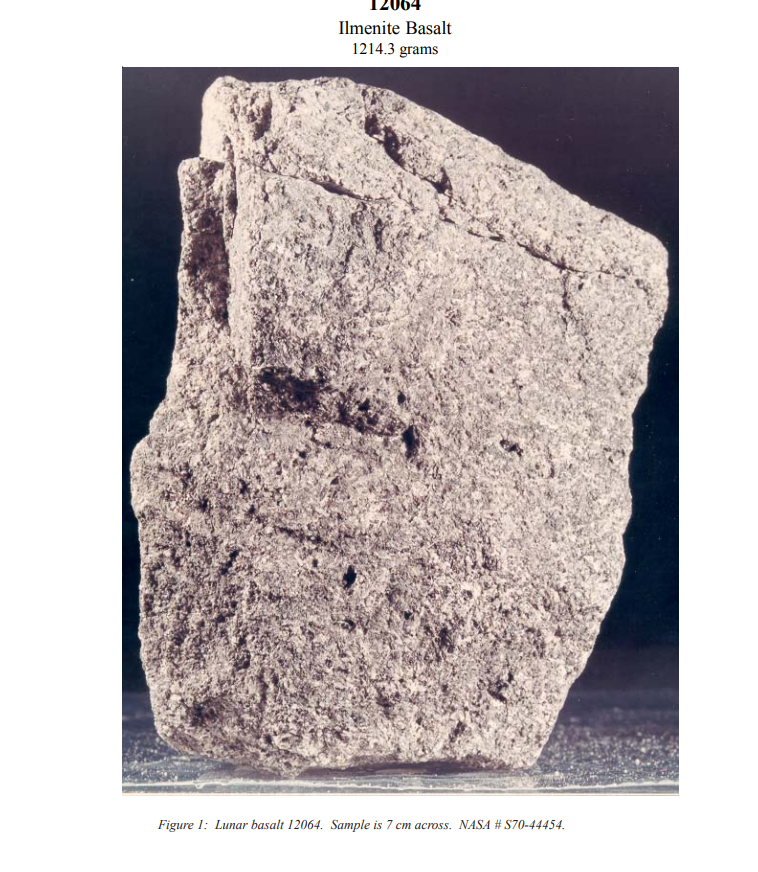Basalt: (122, 65, 676, 787)
